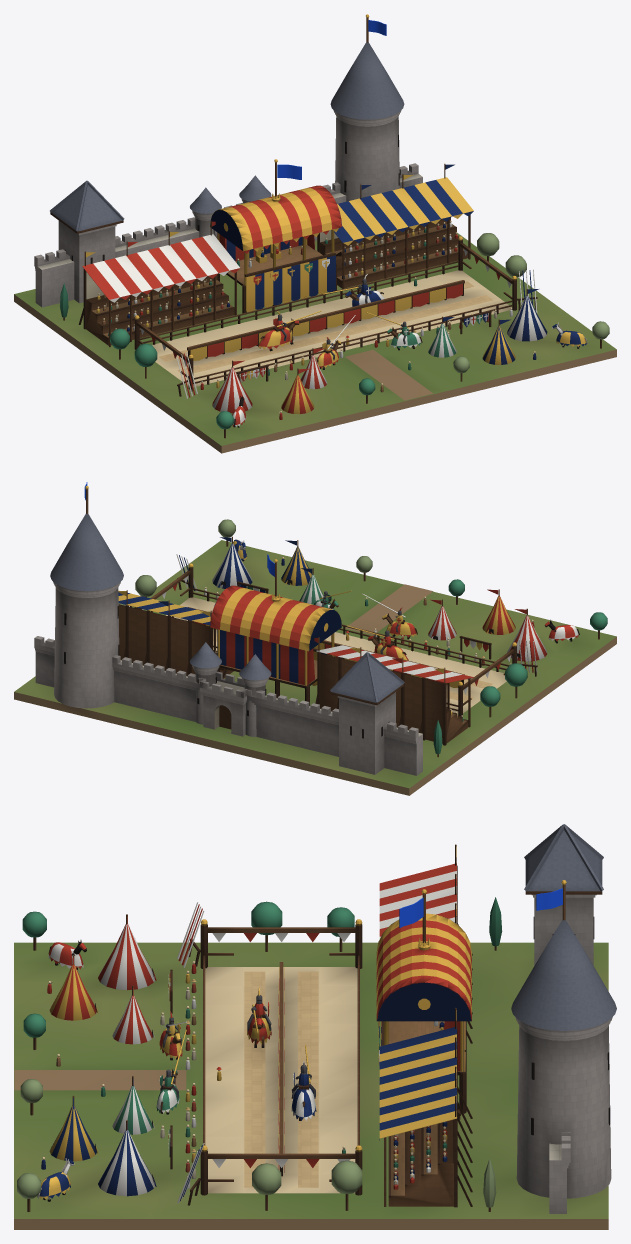
File: lm_turnuva.glb
3 renders of one model, top to bottom at view 1: azimuth 30°, elevation 25°; view 2: azimuth 150°, elevation 25°; view 3: azimuth 270°, elevation 25°, orthographic. The views are drawn at different scales.
Visible parts, largest first — view 1: lm_turnuva; view 2: lm_turnuva; view 3: lm_turnuva.
Boxes of the visible parts, left/top/right/bottom form: lm_turnuva: left=14, top=14, right=616, bottom=453; lm_turnuva: left=14, top=482, right=616, bottom=795; lm_turnuva: left=14, top=824, right=616, bottom=1229.
Bounding box in the file's own units: 2.2 × 1.15 × 2.03.
Materials: 1 (1 with a texture image).
